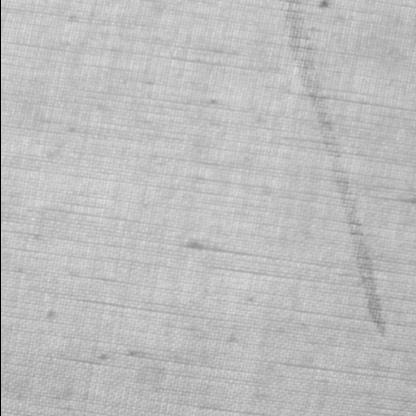oil spot: (278, 0, 388, 338)
